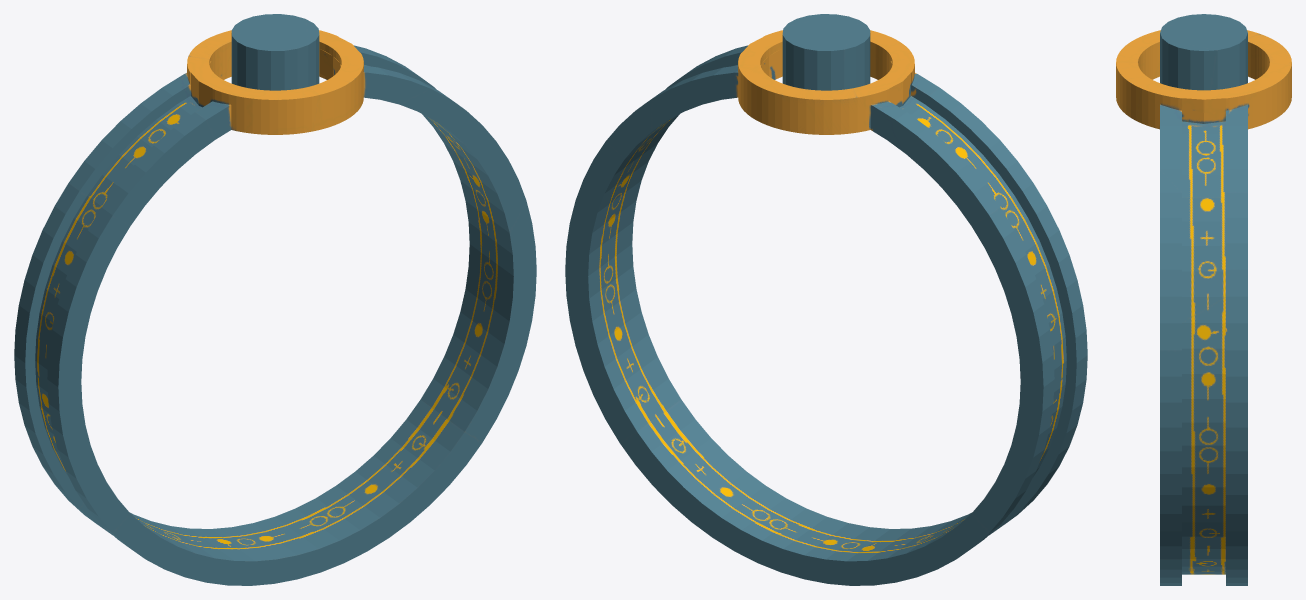
The model's file is Ring.fbx.
The picture shows the model from 3 angles, left to right: view 1: azimuth 30°, elevation 25°; view 2: azimuth 150°, elevation 25°; view 3: azimuth 270°, elevation 25°; orthographic projection.
Parts seen in each view (by area): view 1: node_id30; view 2: node_id30; view 3: node_id30.
Part boxes in pixels (x1,y1,x2,y2): node_id30: (14,14,536,585); node_id30: (565,14,1087,585); node_id30: (1116,14,1291,585).
Size of the model in its own units: 0.483 by 0.512 by 0.1546.
Materials: 1 (1 with a texture image).
